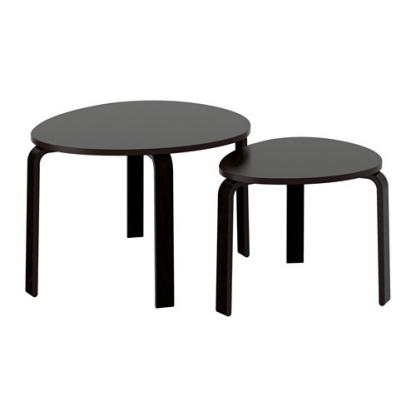Table: (20, 93, 252, 312), (214, 134, 395, 317)
